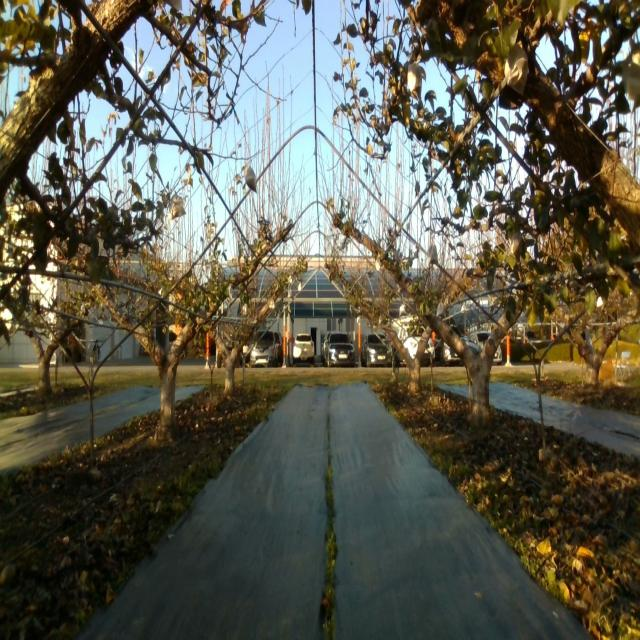pearbags: (622, 43, 640, 113), (407, 63, 423, 101), (170, 194, 186, 218), (244, 166, 257, 193), (427, 243, 438, 265)
